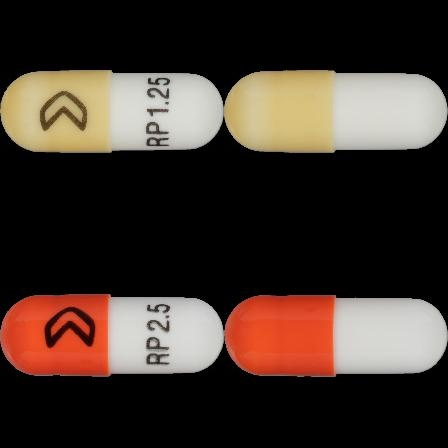16252-570: (0, 0, 224, 224)
